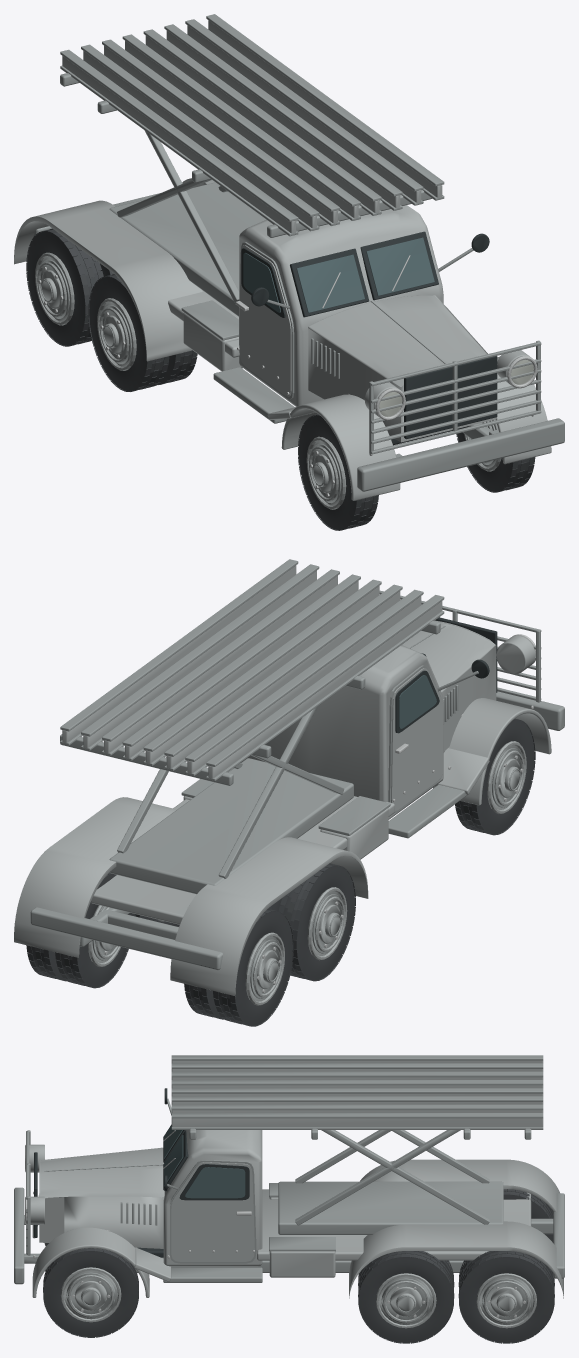
The model's file is BM13-B6-medium.glb.
3 views of the same model, one above another, from view 1: azimuth 30°, elevation 25°; view 2: azimuth 150°, elevation 25°; view 3: azimuth 270°, elevation 25° (orthographic). The views are drawn at different scales.
Parts seen in each view (by area): view 1: BM13_Crowned_Tapered_Hood, BM13_Continuous_Rear_Fender, BM13_Integrated_Curved_Cab, BM13_Rack_Closed_Base, BM13_Front_Bumper, BM13_Front_Fender, BM13_PGF_Tire.007, BM13_Contoured_Door_Face, BM13_Radiator_Dark_Face, BM13_PGF_Tire.003, BM13_PGF_Tire, BM13_Sloped_Windscreen_Glass (+41 smaller); view 2: BM13_Rack_Closed_Base, BM13_Continuous_Rear_Fender, BM13_Integrated_Curved_Cab, BM13_Continuous_Rear_Fender.001, BM13_Crowned_Tapered_Hood, BM13_Contoured_Door_Face, BM13_PGF_Tire.003, BM13_Rear_Deck, BM13_Front_Fender, BM13_Rear_Bumper, BM13_PGF_Tire.007, BM13_PGF_Tire (+36 smaller); view 3: BM13_Crowned_Tapered_Hood, BM13_Rack_Closed_Base, BM13_Continuous_Rear_Fender.001, BM13_Contoured_Door_Face.001, BM13_PGF_Tire.005, BM13_PGF_Tire.009, BM13_PGF_Tire.001, BM13_Integrated_Curved_Cab, BM13_Continuous_Rear_Fender, BM13_Empty_Art_Rail.007, BM13_Rear_Deck, BM13_Empty_Art_Rail_Top.002 (+48 smaller).
Boxes of the visible parts, <box> form: BM13_Crowned_Tapered_Hood: <box>308,295,496,442</box>; BM13_Continuous_Rear_Fender: <box>14,200,202,361</box>; BM13_Integrated_Curved_Cab: <box>239,205,443,406</box>; BM13_Rack_Closed_Base: <box>109,182,265,316</box>; BM13_Front_Bumper: <box>357,418,564,491</box>; BM13_Front_Fender: <box>281,394,400,500</box>; BM13_PGF_Tire.007: <box>26,228,103,346</box>; BM13_Contoured_Door_Face: <box>239,245,291,396</box>; BM13_Radiator_Dark_Face: <box>404,356,497,439</box>; BM13_PGF_Tire.003: <box>88,274,169,391</box>; BM13_PGF_Tire: <box>298,414,378,530</box>; BM13_Sloped_Windscreen_Glass: <box>296,254,364,312</box>; BM13_Rack_Closed_Base: <box>109,758,353,894</box>; BM13_Continuous_Rear_Fender: <box>170,837,368,995</box>; BM13_Integrated_Curved_Cab: <box>241,645,443,819</box>; BM13_Continuous_Rear_Fender.001: <box>14,797,176,957</box>; BM13_Crowned_Tapered_Hood: <box>402,620,496,751</box>; BM13_Contoured_Door_Face: <box>391,668,443,810</box>; BM13_PGF_Tire.003: <box>278,863,355,981</box>; BM13_Rear_Deck: <box>91,796,394,924</box>; BM13_Front_Fender: <box>433,698,551,805</box>; BM13_Rear_Bumper: <box>30,907,222,970</box>; BM13_PGF_Tire.007: <box>213,908,293,1026</box>; BM13_PGF_Tire: <box>455,718,535,835</box>; BM13_Crowned_Tapered_Hood: <box>38,1147,164,1248</box>; BM13_Rack_Closed_Base: <box>278,1181,503,1234</box>; BM13_Continuous_Rear_Fender.001: <box>349,1221,563,1298</box>; BM13_Contoured_Door_Face.001: <box>171,1162,254,1261</box>; BM13_PGF_Tire.005: <box>358,1251,454,1343</box>; BM13_PGF_Tire.009: <box>458,1251,554,1343</box>; BM13_PGF_Tire.001: <box>43,1248,138,1337</box>; BM13_Integrated_Curved_Cab: <box>163,1130,262,1266</box>; BM13_Continuous_Rear_Fender: <box>360,1159,559,1211</box>; BM13_Empty_Art_Rail.007: <box>171,1118,543,1127</box>; BM13_Rear_Deck: <box>257,1189,531,1260</box>; BM13_Empty_Art_Rail_Top.002: <box>171,1071,543,1077</box>.
Bounding box in the file's own units: 3.64 × 3.93 × 9.04.
